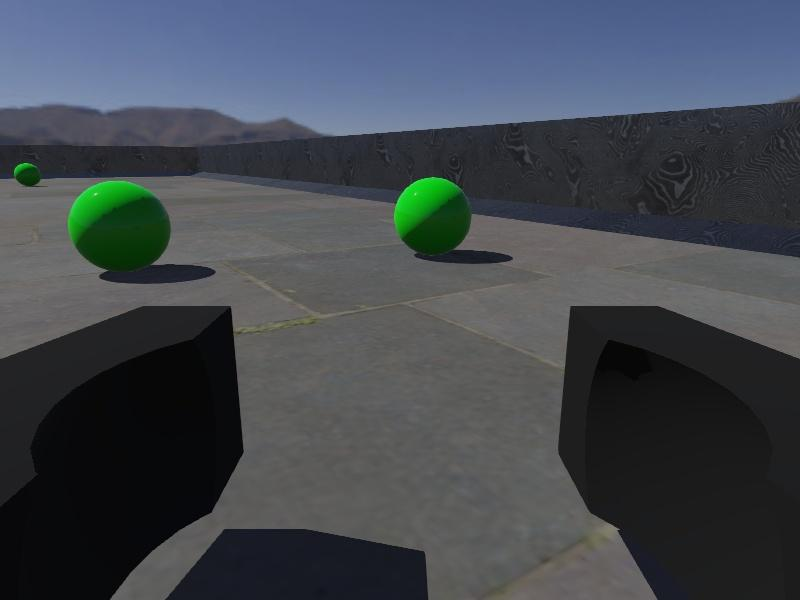green ball: (67, 179, 172, 273), (393, 175, 473, 256), (13, 162, 42, 186)
